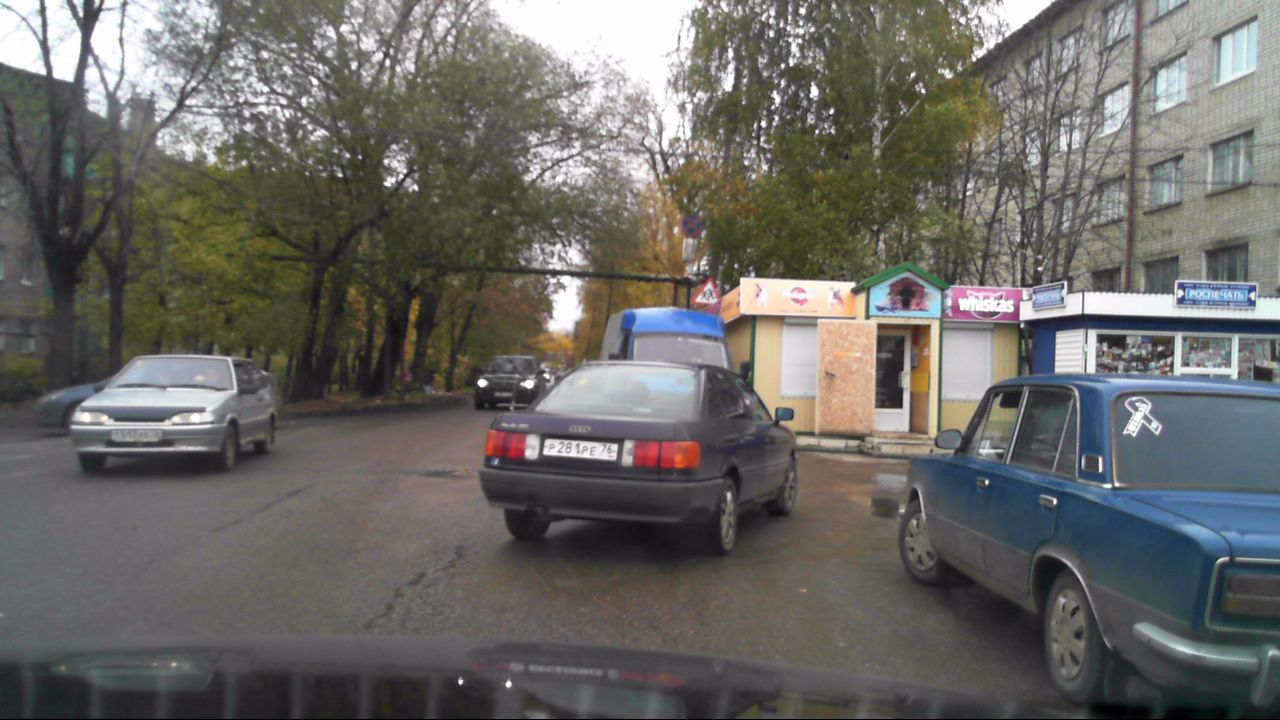No Parking: (677, 213, 703, 238)
